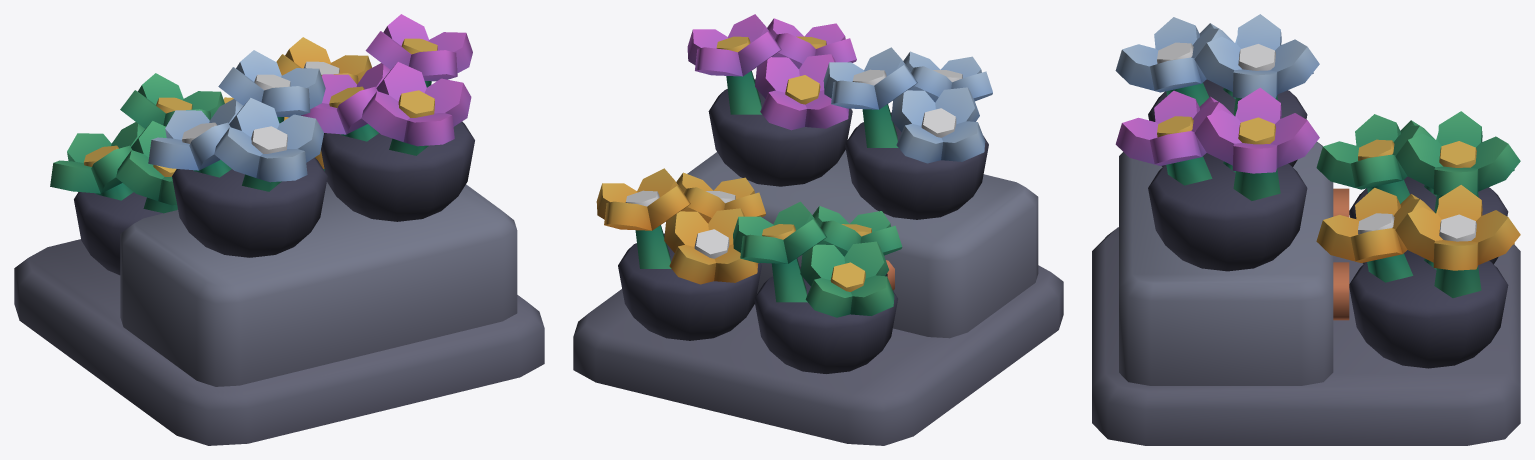
The model's file is display_flowers.fbx.
The picture shows the model from 3 angles, left to right: view 1: azimuth 30°, elevation 25°; view 2: azimuth 150°, elevation 25°; view 3: azimuth 270°, elevation 25°; orthographic projection. The views are drawn at different scales.
Visible parts, largest first — view 1: display-flowers; view 2: display-flowers; view 3: display-flowers.
Boxes of the visible parts, <box> form: display-flowers: <box>14,14,544,445</box>; display-flowers: <box>573,14,1063,445</box>; display-flowers: <box>1092,14,1520,445</box>.
Bounding box in the file's own units: 0.9997 × 0.7899 × 1.
